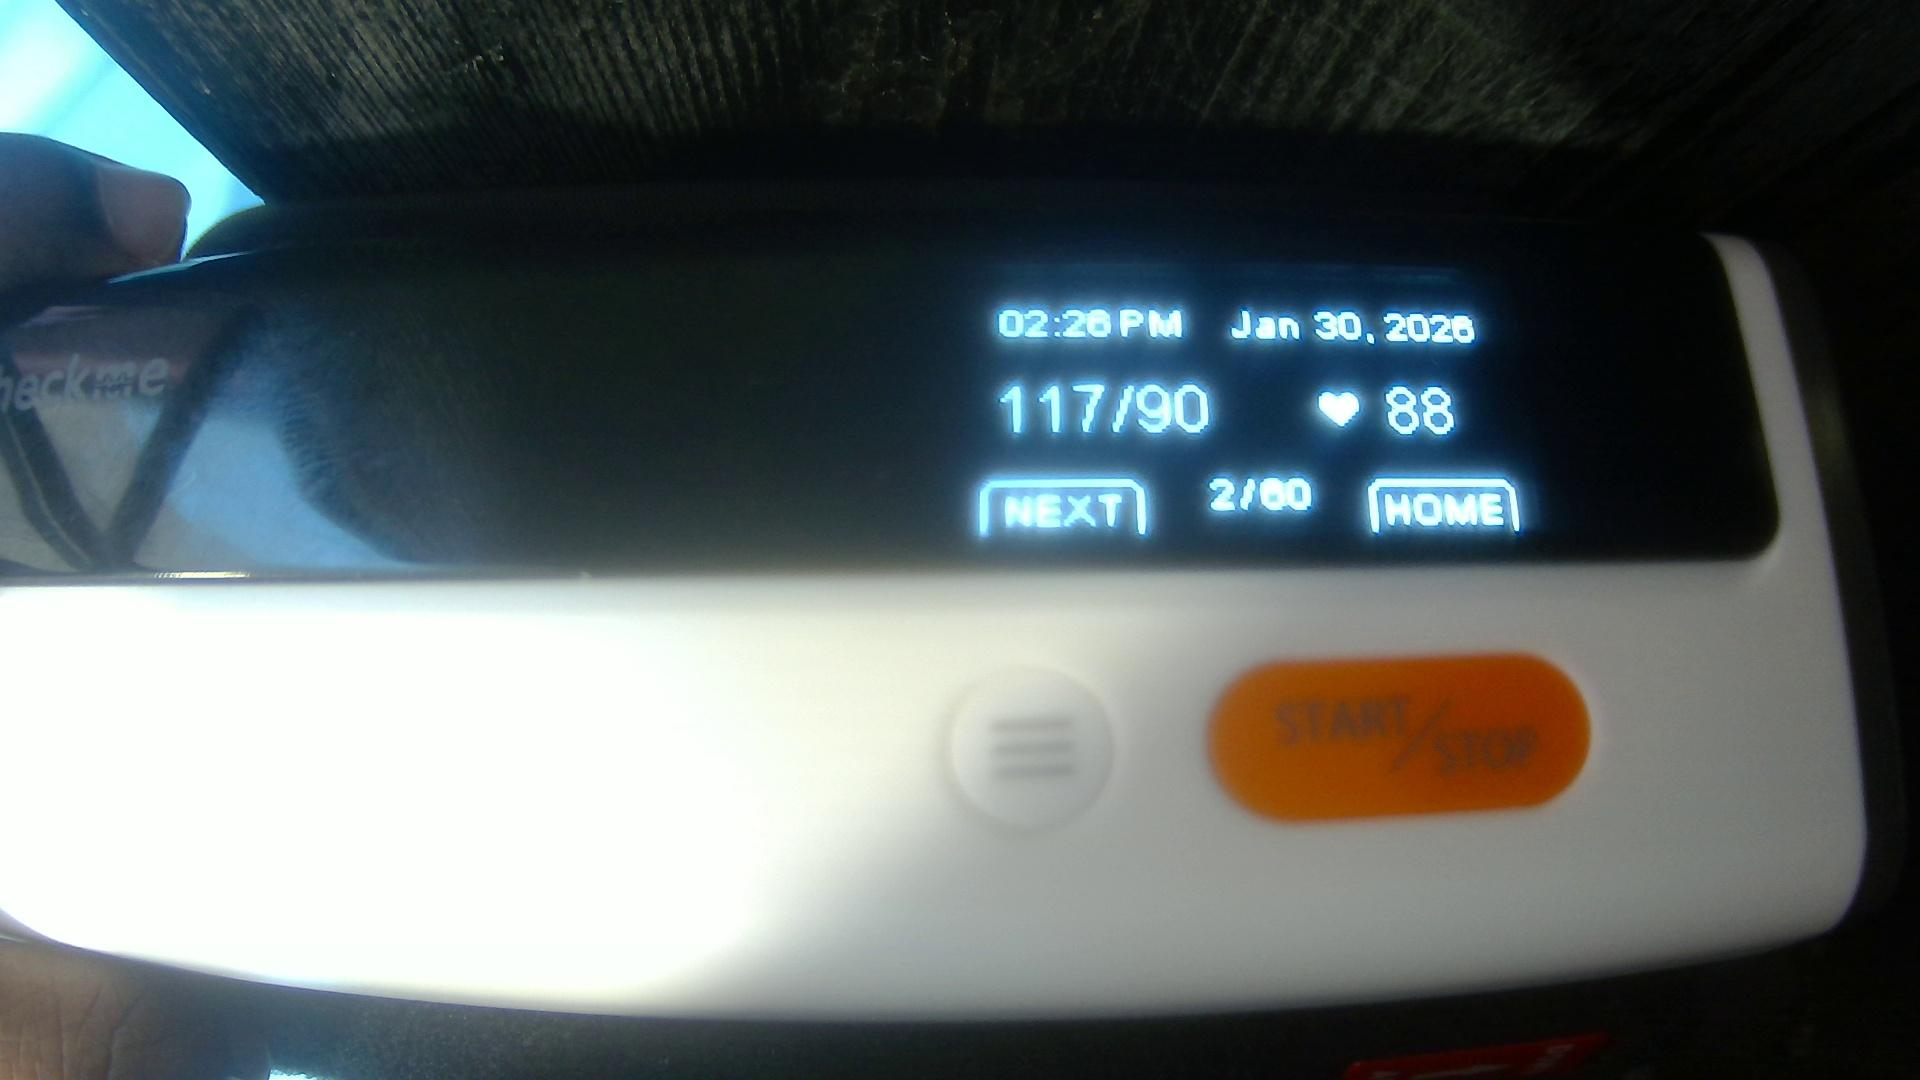DISPLAY: (15, 240, 1767, 578)
